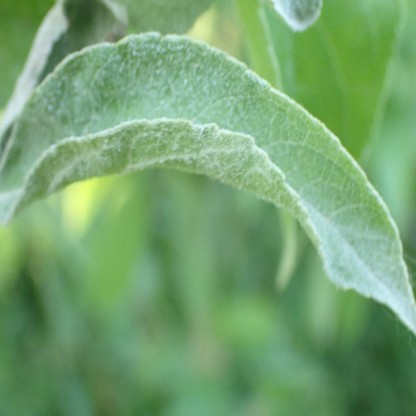powder: (2, 28, 415, 335)
